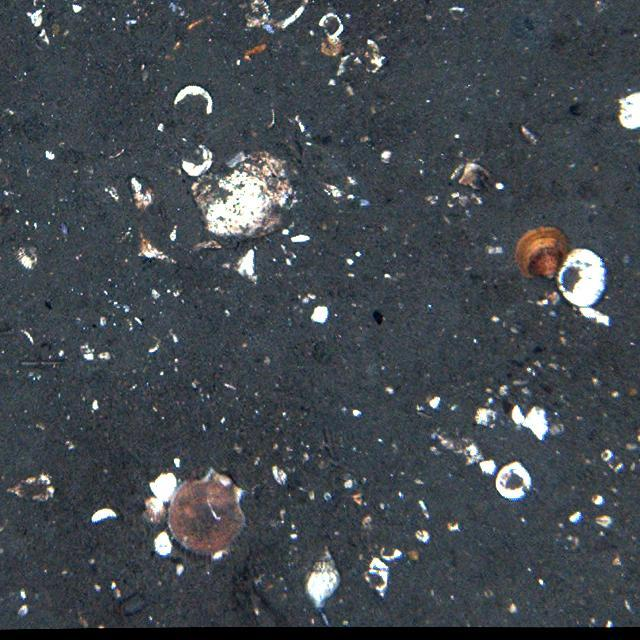whelk: (306, 546, 340, 610)
